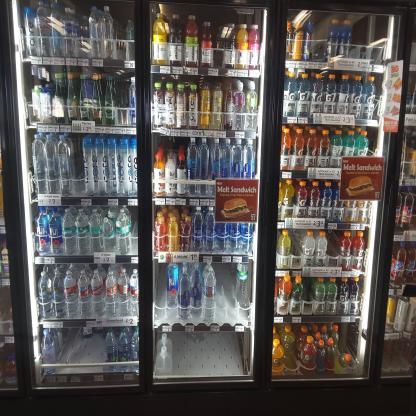Void: (175, 332, 243, 376), (351, 21, 384, 63), (66, 332, 104, 364), (219, 264, 234, 318), (70, 140, 83, 192), (153, 266, 165, 318), (114, 9, 122, 62), (116, 79, 125, 125), (290, 230, 301, 266), (328, 234, 338, 272), (317, 23, 327, 60), (368, 127, 378, 156), (342, 327, 355, 349), (133, 208, 137, 256)
